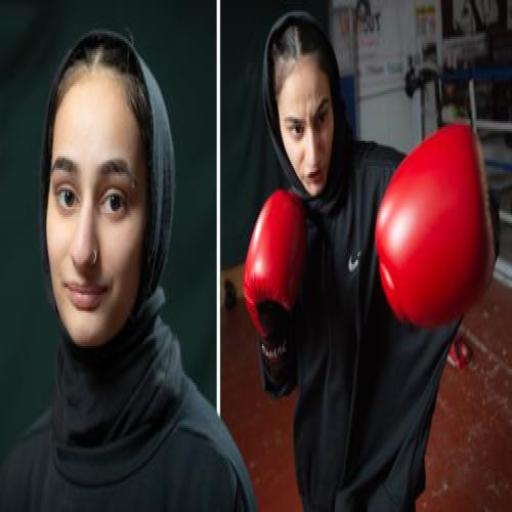boxing: (223, 0, 481, 502)
